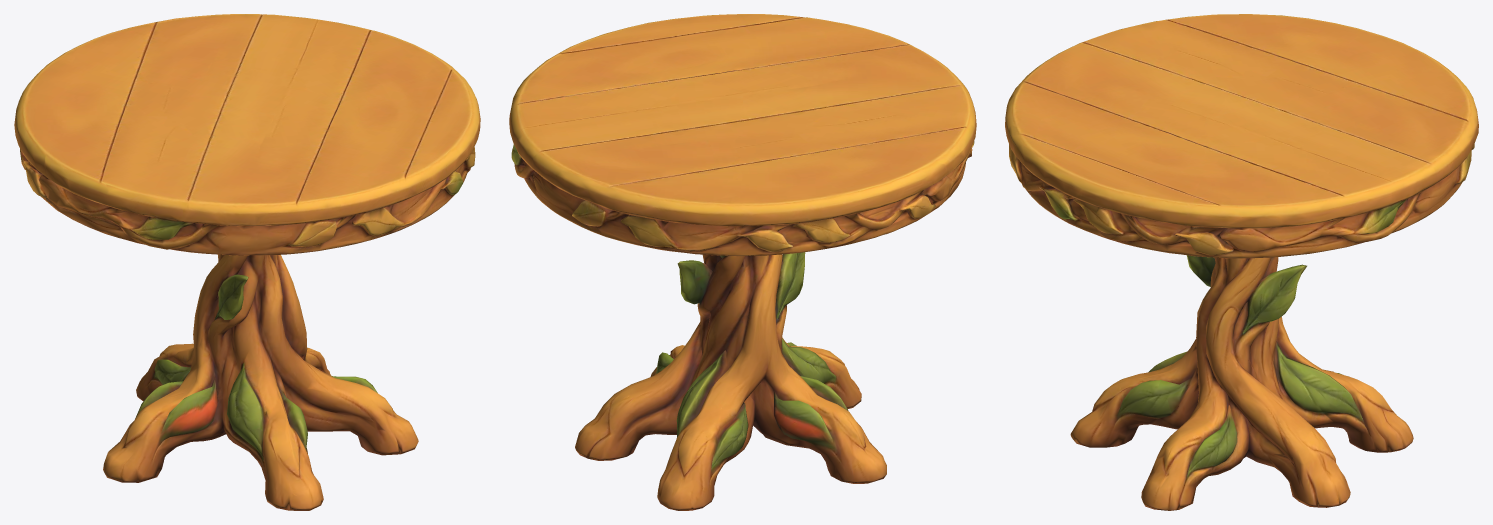
File: SM_House_Table.glb
3 views of the same model, side by side, from view 1: azimuth 30°, elevation 25°; view 2: azimuth 150°, elevation 25°; view 3: azimuth 270°, elevation 25° (orthographic).
Visible parts, largest first — view 1: tripo_node_3090f518-19dd-4e8d-9ed9-68fe557a6318; view 2: tripo_node_3090f518-19dd-4e8d-9ed9-68fe557a6318; view 3: tripo_node_3090f518-19dd-4e8d-9ed9-68fe557a6318.
Boxes of the visible parts, box(x1,y1,x2,y2) form: tripo_node_3090f518-19dd-4e8d-9ed9-68fe557a6318: box(14, 14, 480, 510); tripo_node_3090f518-19dd-4e8d-9ed9-68fe557a6318: box(509, 14, 976, 510); tripo_node_3090f518-19dd-4e8d-9ed9-68fe557a6318: box(1005, 14, 1478, 510).
Bounding box in the file's own units: 0.9969 × 0.7865 × 1.
1 material, 1 textured.
